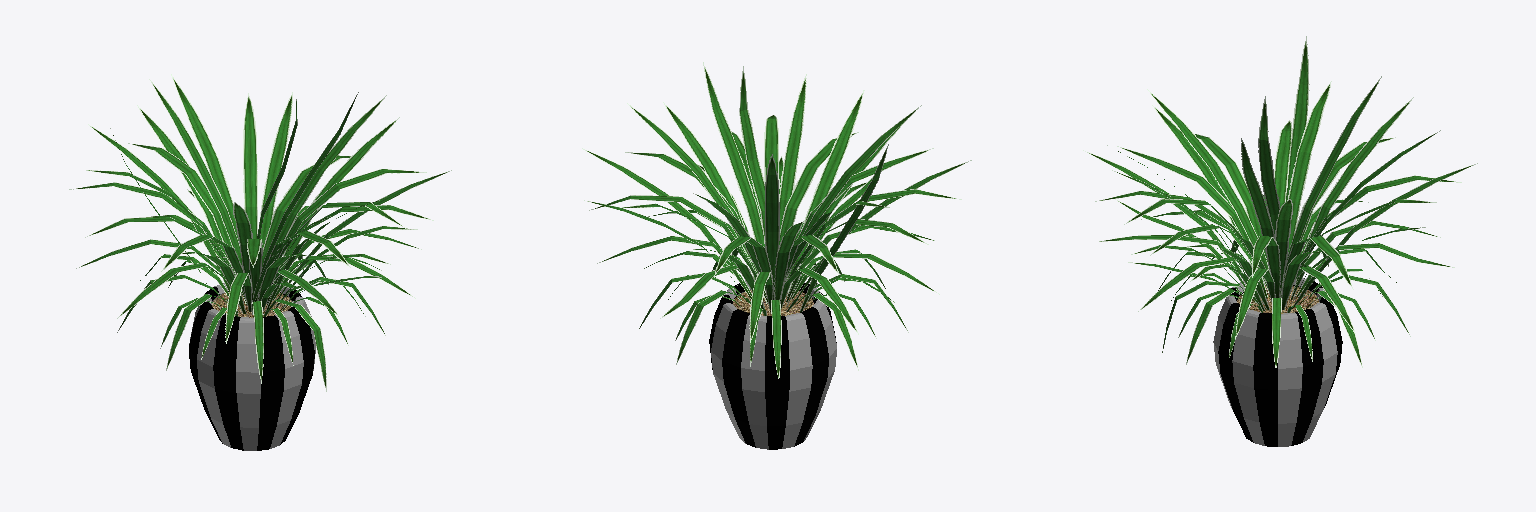
3 views of the same model, side by side, from view 1: azimuth 30°, elevation 25°; view 2: azimuth 150°, elevation 25°; view 3: azimuth 270°, elevation 25° (orthographic).
Size of the model in its own units: 0.2706 by 0.2736 by 0.2791.
Materials: 4 (3 with a texture image).